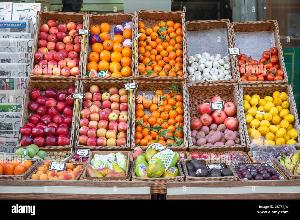apple: (31, 14, 89, 77), (78, 86, 134, 144), (20, 86, 72, 148)
apricot: (35, 160, 81, 184)
avocado: (185, 160, 237, 182)
garlic: (186, 25, 236, 81)
lemon: (242, 88, 300, 146)
orange: (135, 13, 183, 79), (135, 84, 185, 146), (84, 17, 134, 77)
pear: (79, 152, 131, 182)
plum: (236, 163, 284, 183)
pomegranate: (189, 90, 239, 130)
tomato: (236, 24, 288, 82)
